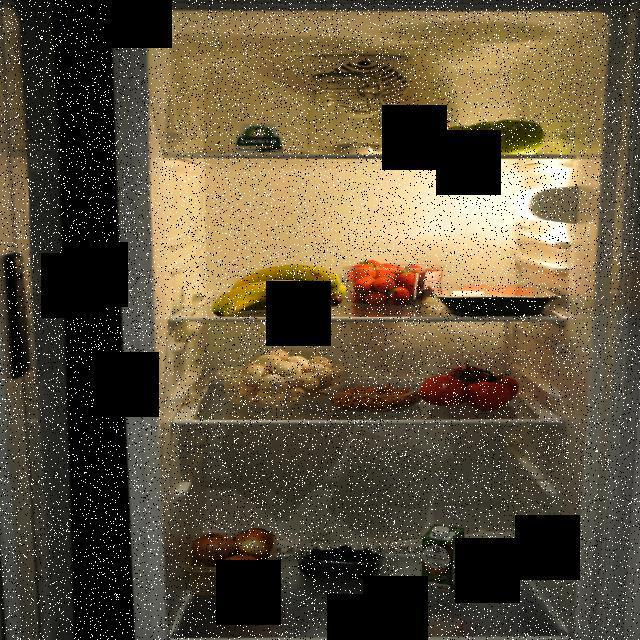apple: (440, 116, 548, 156)
banana: (212, 260, 348, 316)
blueberries: (298, 540, 386, 581)
corn: (399, 118, 451, 161)
flour: (302, 65, 398, 158)
goat_cheese: (228, 117, 292, 156)
heavy_cream: (421, 522, 469, 596)
mushrooms: (209, 348, 358, 408)
onion: (195, 528, 272, 598)
shrimp: (336, 386, 418, 416)
strawberries: (346, 256, 449, 306)
tomato: (417, 360, 525, 410)
